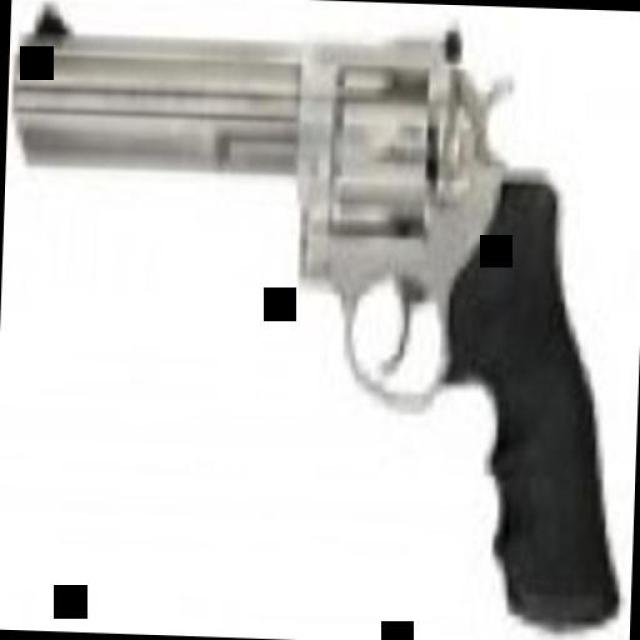gun: (2, 0, 640, 626)
